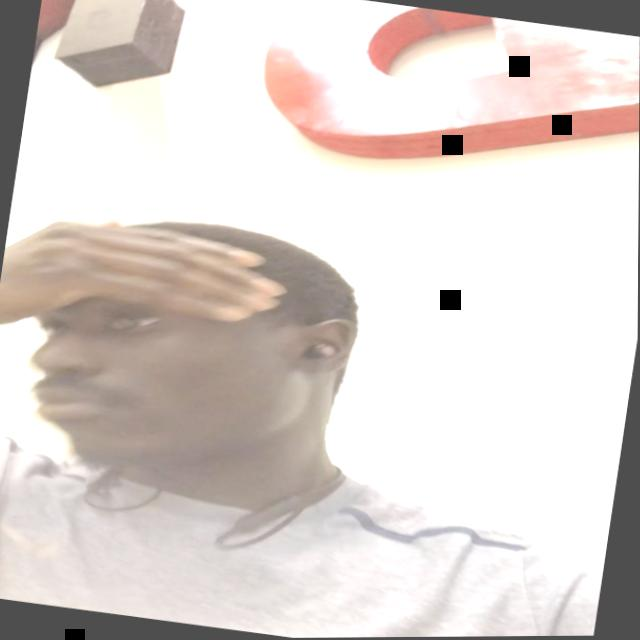NO-Mask: (14, 236, 324, 496)
